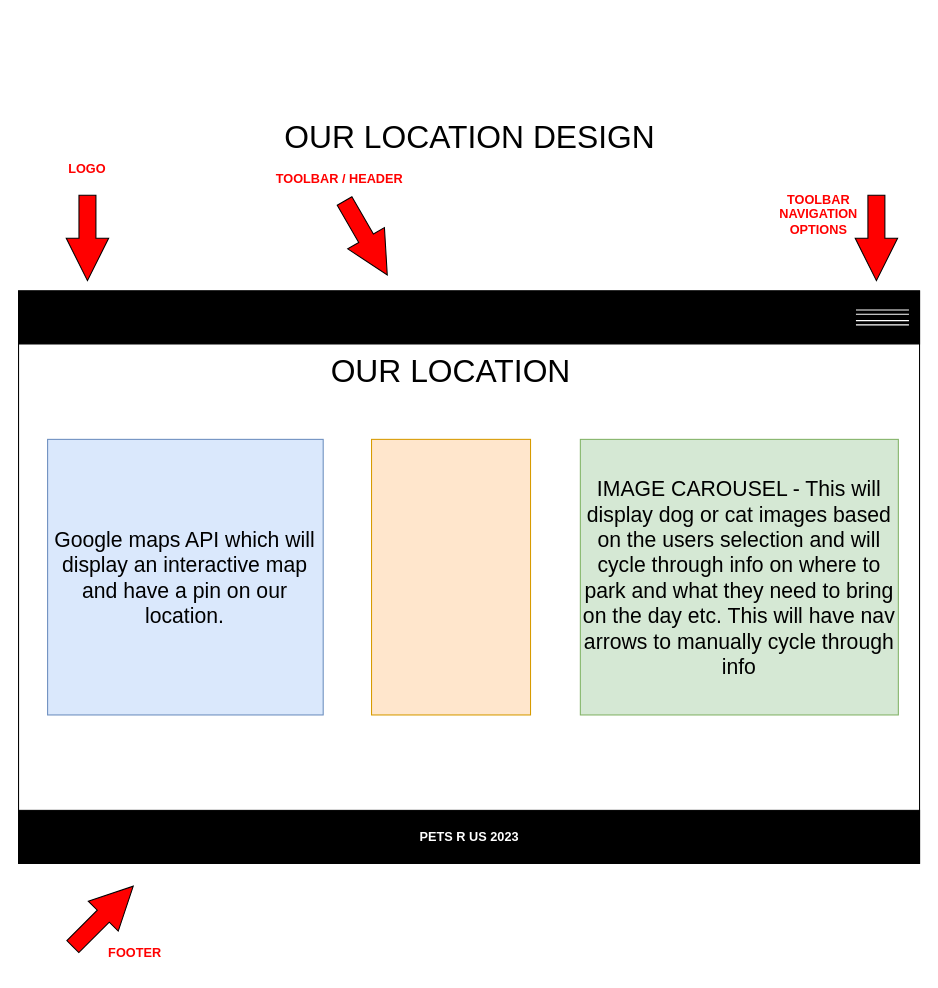
Image size: 938x988. Some labels were removed from this diagram. The box of each missing label's shape, as (x1, y1, x2, y2) in pixels:
Our opening hours will be displayed here.: (370, 438, 531, 715)
PETS R US: (17, 290, 920, 344)
